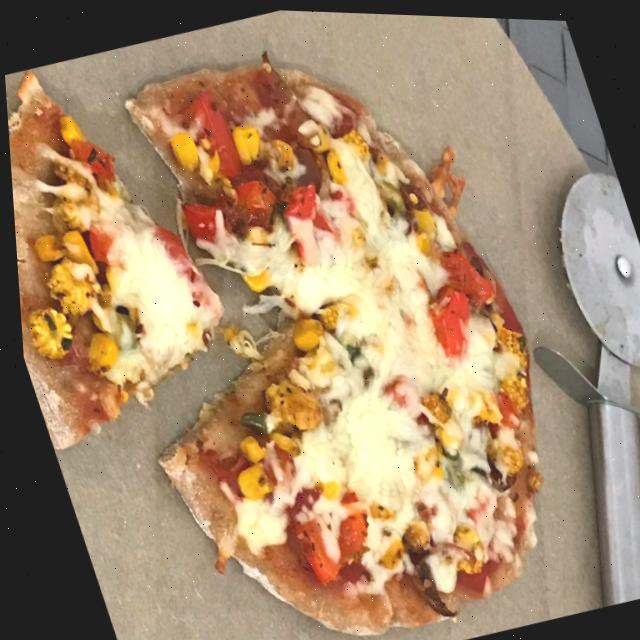pizza: (0, 0, 613, 640)
tomatoes: (273, 479, 383, 592), (178, 83, 250, 186), (266, 170, 341, 266), (413, 278, 482, 359), (430, 240, 494, 316), (150, 217, 199, 298), (220, 169, 280, 229), (67, 127, 117, 194), (171, 192, 226, 250), (77, 216, 124, 270), (482, 378, 518, 427)
